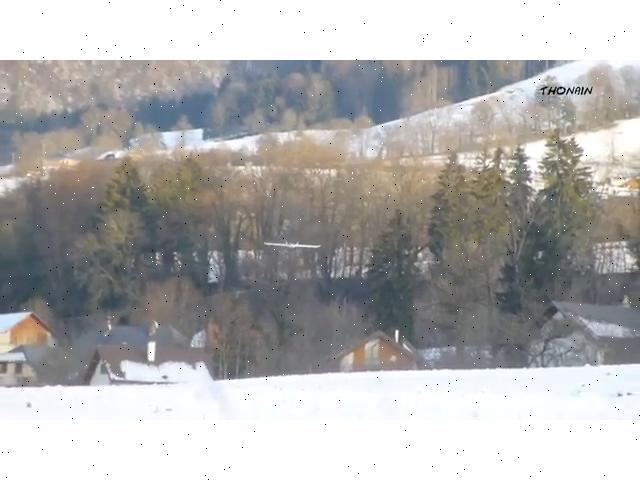Anti-Drone: (264, 242, 320, 247)
